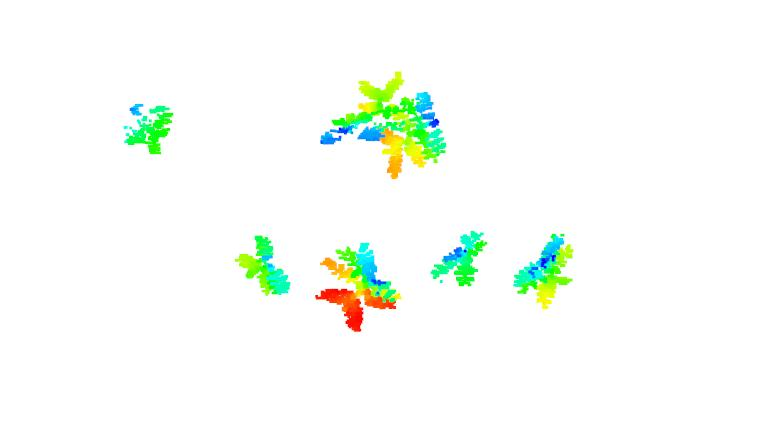chickpea: (319, 73, 454, 183), (314, 236, 402, 335), (510, 233, 582, 306), (427, 227, 489, 289), (237, 231, 292, 300), (123, 99, 173, 157)
